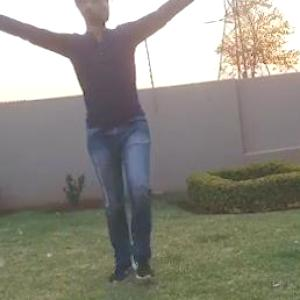takeoff: (1, 0, 204, 278)
